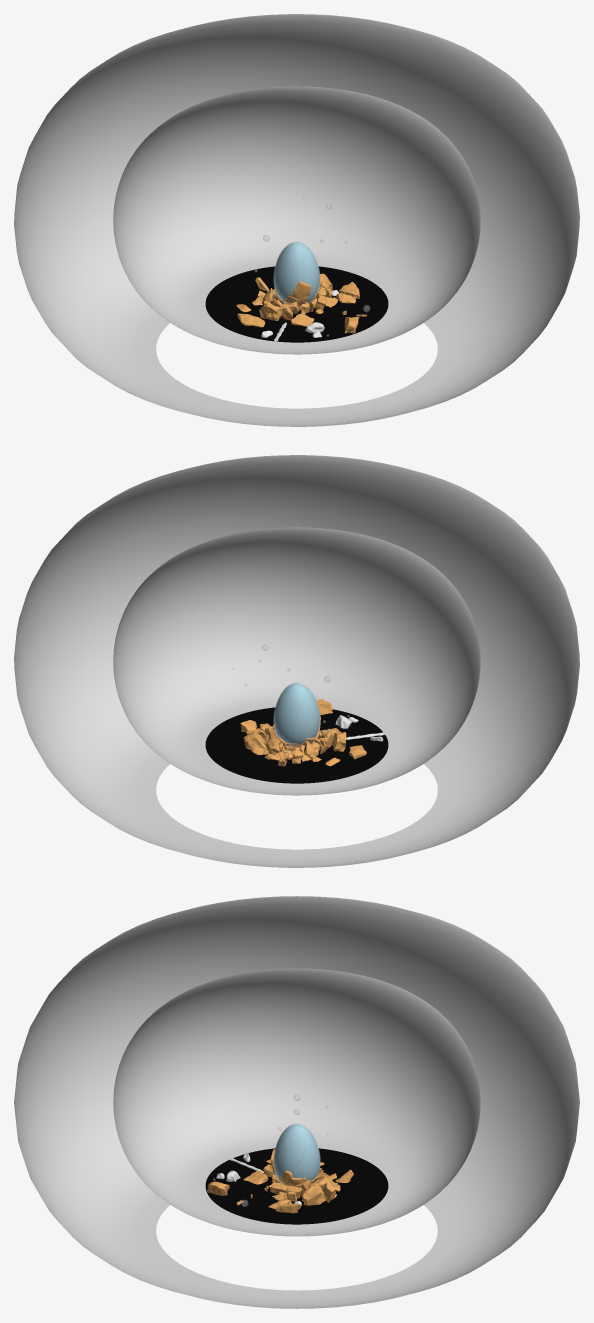
Rendered from PXLs_egg246.glb.
The picture shows the model from 3 angles, top to bottom: view 1: azimuth 30°, elevation 25°; view 2: azimuth 150°, elevation 25°; view 3: azimuth 270°, elevation 25°; orthographic projection.
Visible parts, largest first — view 1: outerCylinder, innerCylinder, floorBase, rockDebris, smoke4, smoke3, crackedEgg; view 2: outerCylinder, innerCylinder, floorBase, rockDebris, smoke4, smoke3, crackedEgg; view 3: outerCylinder, innerCylinder, floorBase, rockDebris, smoke4, smoke3, crackedEgg.
Part boxes in pixels (bbox=[...]): outerCylinder: bbox=[14, 14, 579, 426]; innerCylinder: bbox=[113, 86, 480, 354]; floorBase: bbox=[205, 266, 388, 342]; rockDebris: bbox=[237, 273, 359, 333]; smoke4: bbox=[273, 241, 320, 305]; smoke3: bbox=[274, 241, 319, 302]; crackedEgg: bbox=[274, 242, 319, 302]; outerCylinder: bbox=[14, 455, 579, 867]; innerCylinder: bbox=[113, 527, 480, 795]; floorBase: bbox=[205, 707, 388, 783]; rockDebris: bbox=[240, 699, 366, 766]; smoke4: bbox=[273, 682, 320, 747]; smoke3: bbox=[274, 682, 319, 746]; crackedEgg: bbox=[274, 683, 319, 744]; outerCylinder: bbox=[14, 896, 579, 1308]; innerCylinder: bbox=[113, 968, 480, 1236]; floorBase: bbox=[205, 1148, 388, 1224]; rockDebris: bbox=[207, 1156, 353, 1213]; smoke4: bbox=[273, 1123, 320, 1185]; smoke3: bbox=[274, 1123, 320, 1179]; crackedEgg: bbox=[274, 1124, 319, 1180].
Size of the model in its own units: 22.69 by 11.36 by 22.69.
8 materials, 2 textured.
